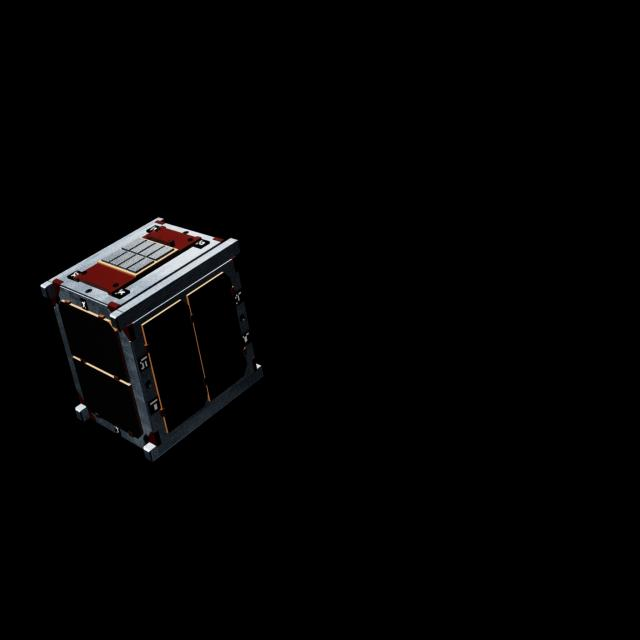medium_debris: (38, 213, 272, 464)
